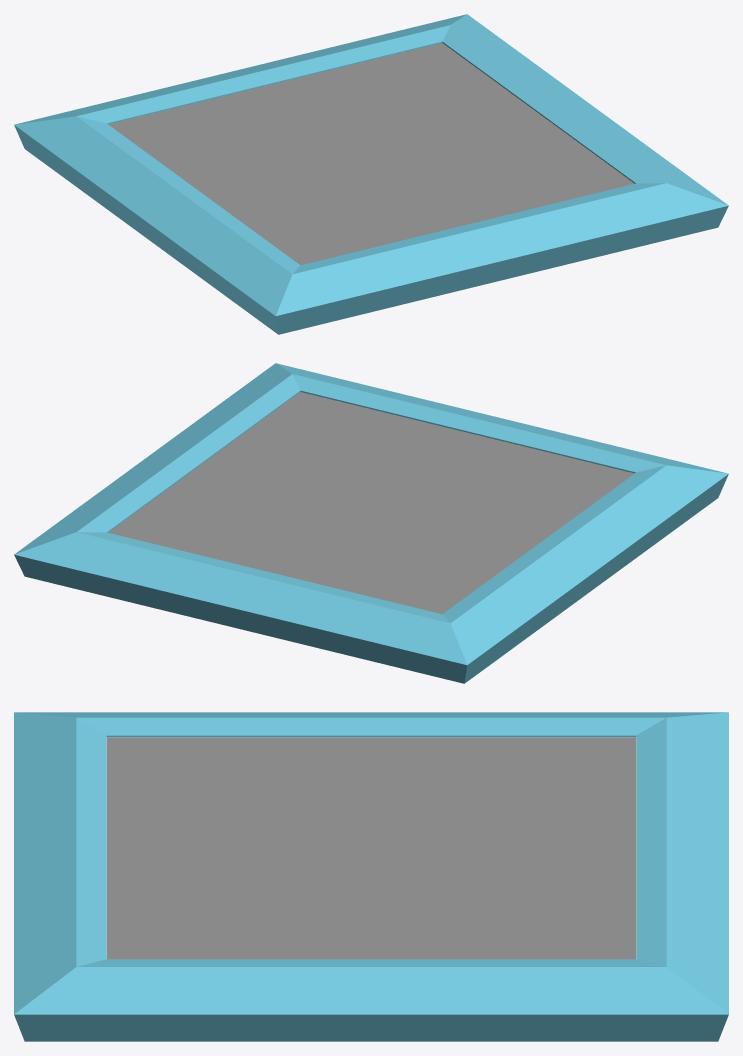
The model's file is BaseCube.fbx.
The picture shows the model from 3 angles, top to bottom: view 1: azimuth 30°, elevation 25°; view 2: azimuth 150°, elevation 25°; view 3: azimuth 270°, elevation 25°; orthographic projection. The views are drawn at different scales.
Visible parts, largest first — view 1: Cube, Cube.001, Cube.004, Cube.002, Cube.003; view 2: Cube, Cube.003, Cube.004, Cube.002, Cube.001; view 3: Cube, Cube.002, Cube.001, Cube.003, Cube.004.
Boxes of the visible parts, left/top/right/bottom form: Cube: left=108, top=43, right=634, bottom=265; Cube.001: left=275, top=183, right=728, bottom=334; Cube.004: left=14, top=116, right=300, bottom=334; Cube.002: left=442, top=14, right=728, bottom=205; Cube.003: left=15, top=14, right=466, bottom=124; Cube: left=108, top=392, right=634, bottom=614; Cube.003: left=14, top=532, right=467, bottom=683; Cube.004: left=442, top=465, right=728, bottom=683; Cube.002: left=14, top=363, right=300, bottom=554; Cube.001: left=276, top=363, right=727, bottom=473; Cube: left=106, top=737, right=636, bottom=959; Cube.002: left=14, top=959, right=728, bottom=1041; Cube.001: left=14, top=712, right=106, bottom=1014; Cube.003: left=636, top=712, right=728, bottom=1014; Cube.004: left=15, top=712, right=727, bottom=737.
Bounding box in the file's own units: 256 × 20.85 × 256.
